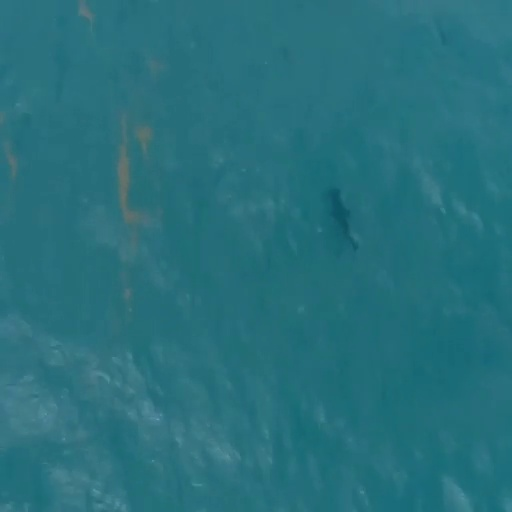shark: (320, 184, 364, 253)
